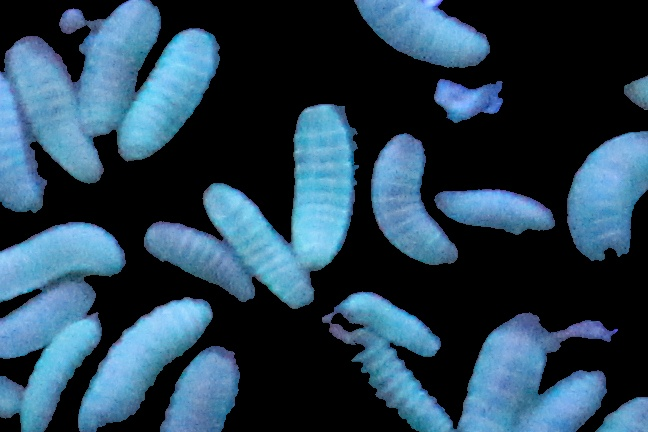larvae: (77, 297, 213, 432), (1, 31, 102, 181), (207, 186, 319, 311), (116, 27, 217, 162), (78, 1, 165, 140), (336, 333, 455, 432), (373, 132, 459, 266), (565, 126, 648, 259), (291, 103, 354, 278), (1, 221, 127, 305), (19, 312, 102, 432), (357, 1, 491, 69), (459, 327, 538, 432), (144, 231, 254, 303), (1, 280, 95, 363), (333, 288, 441, 356), (161, 347, 242, 432), (1, 68, 45, 212), (435, 189, 555, 234), (531, 370, 608, 432)
